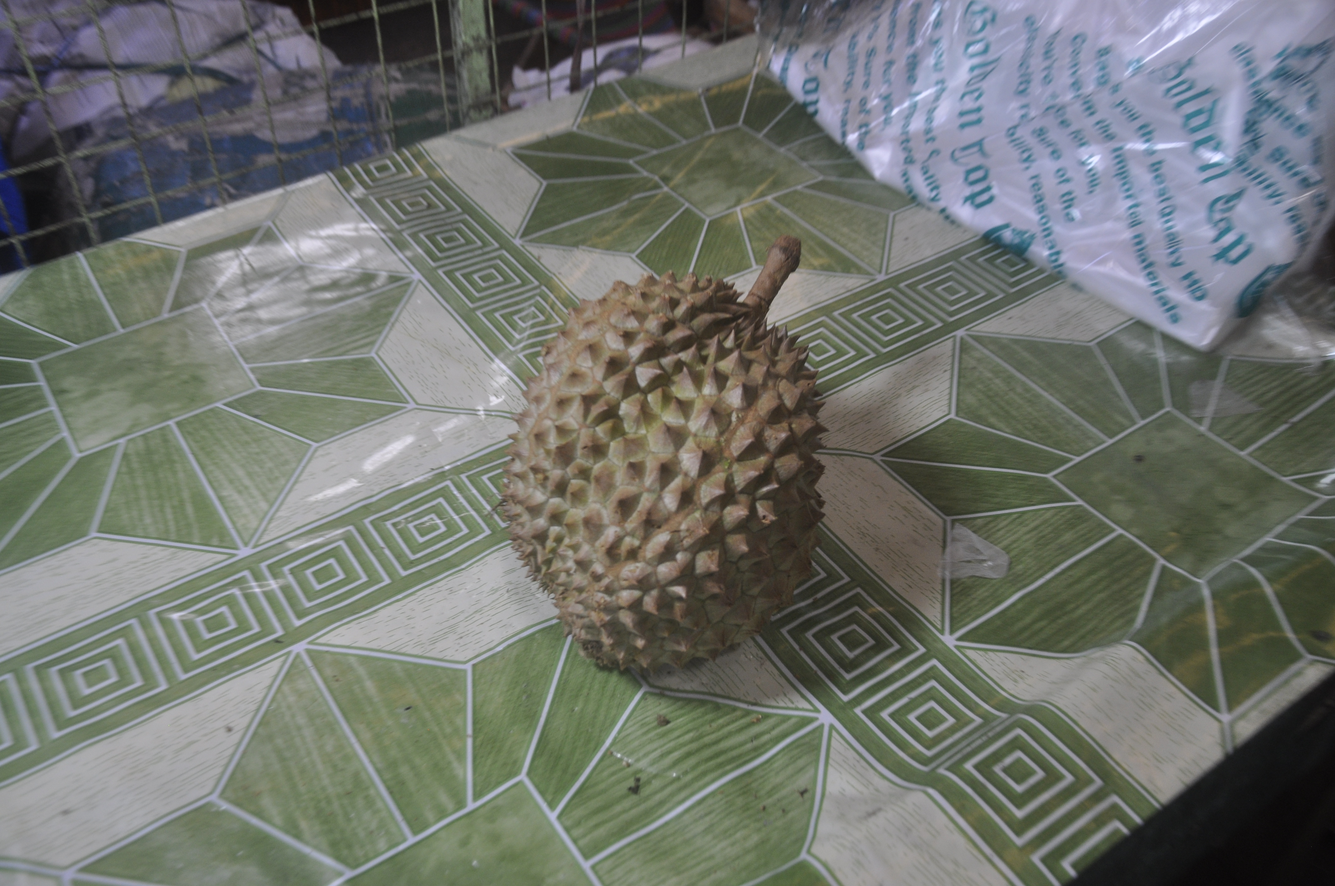mature: (498, 236, 826, 671)
